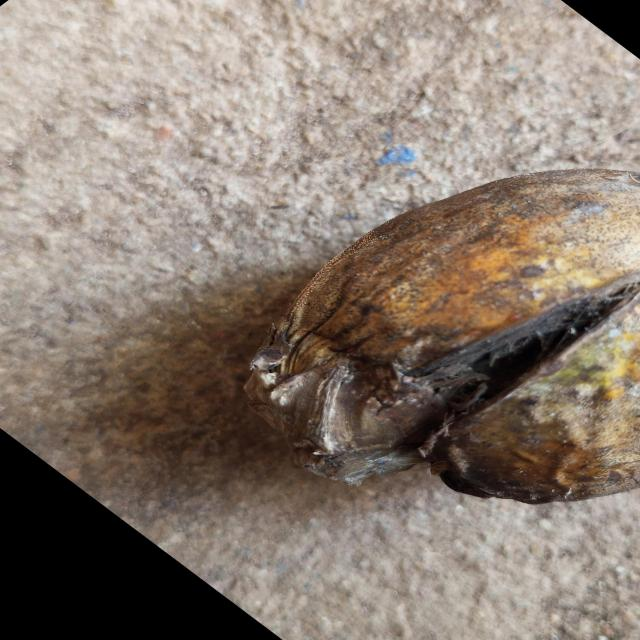damaged: (244, 164, 640, 507)
